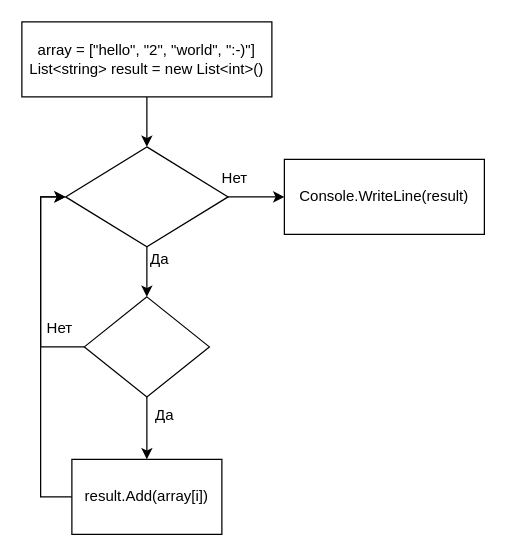
This 506x556 diagram has some shape labels left out. The centre of each missing label's shape, as x and y in pixels:
"for (int i = 0; i < array.Length; i++)" belongs at point (146, 196).
"if (array[i].Length >= 3)" belongs at point (146, 346).
